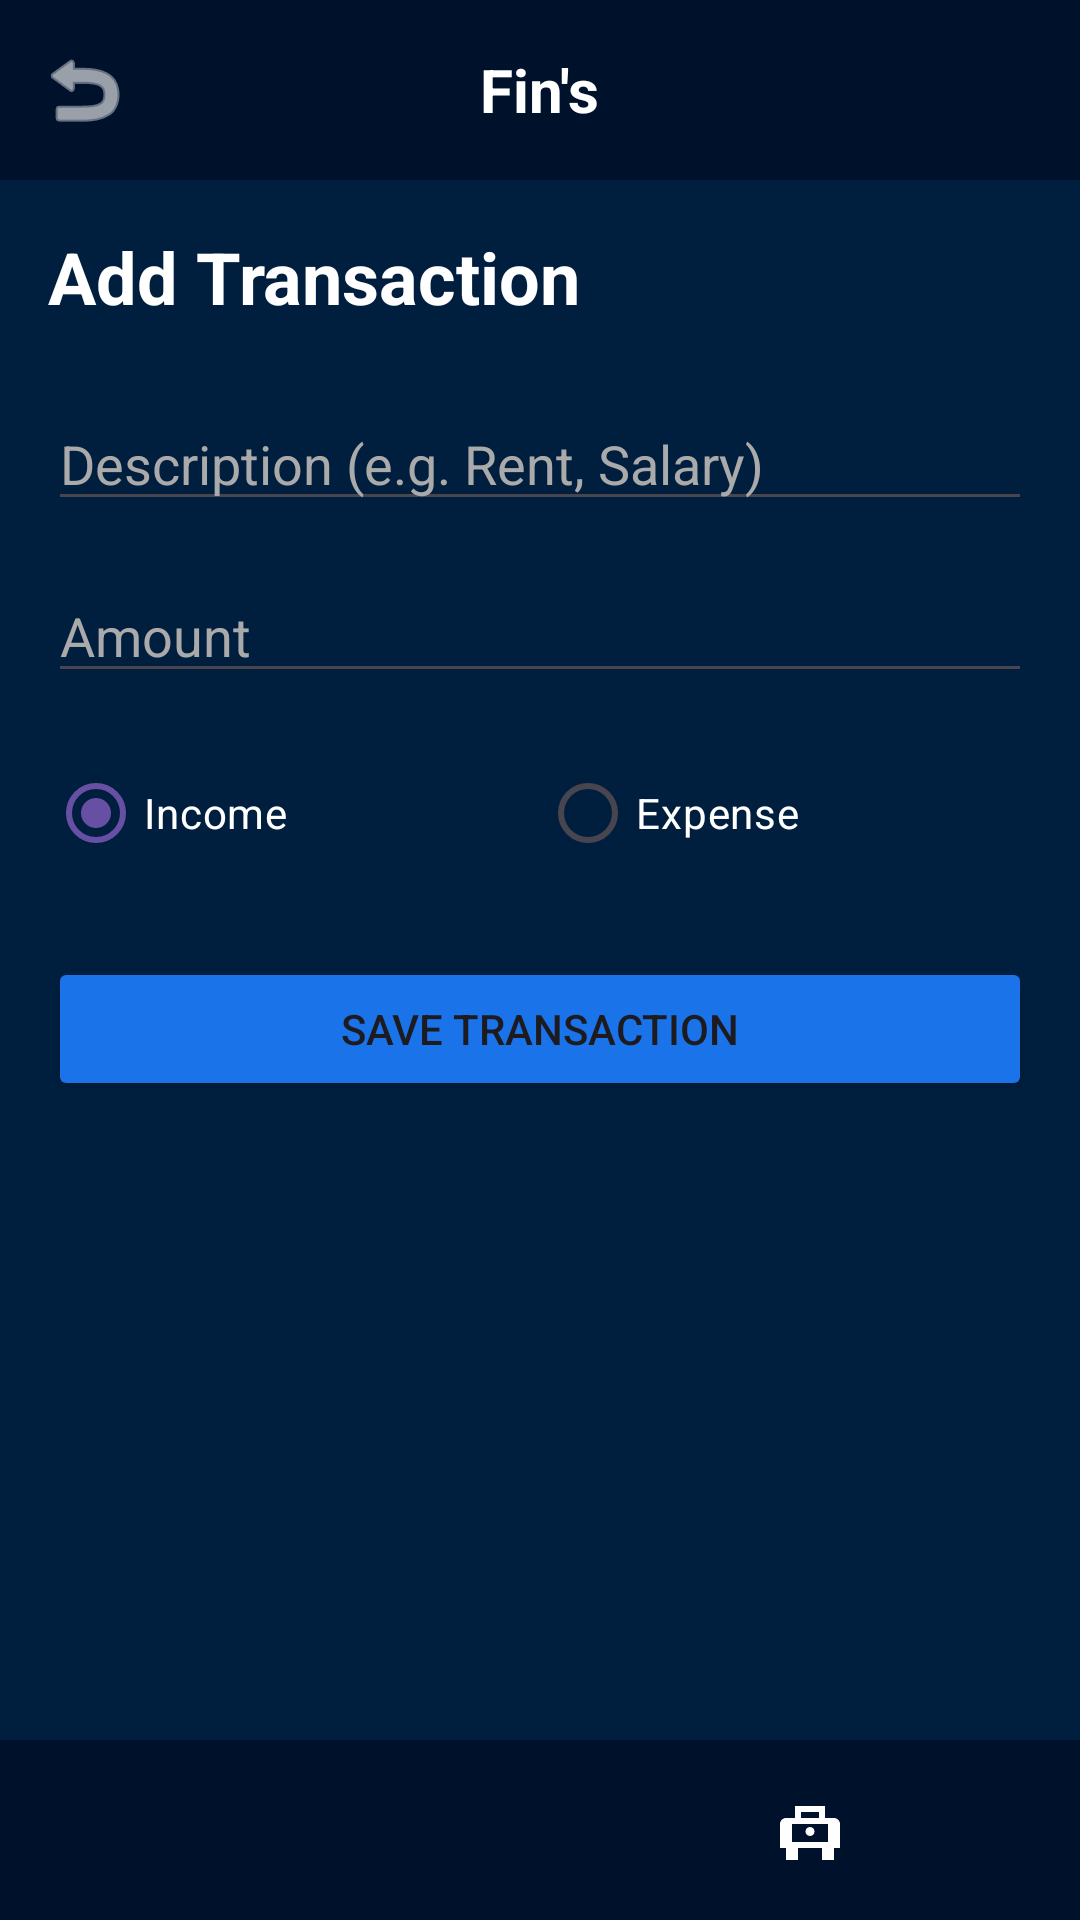

Screen size 1080 × 1920. Icon name, then its center in pixels as point (x, y):
Back: point (85, 90)
